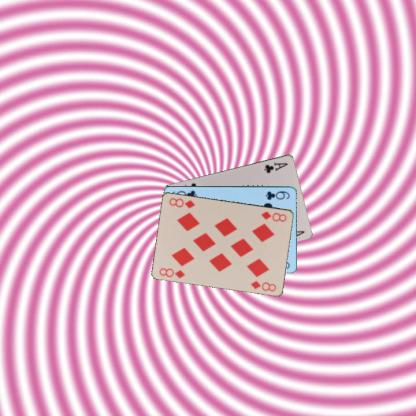6c: (263, 188, 291, 201)
8d: (259, 208, 288, 223), (157, 265, 186, 279)
Ac: (262, 159, 289, 174)
